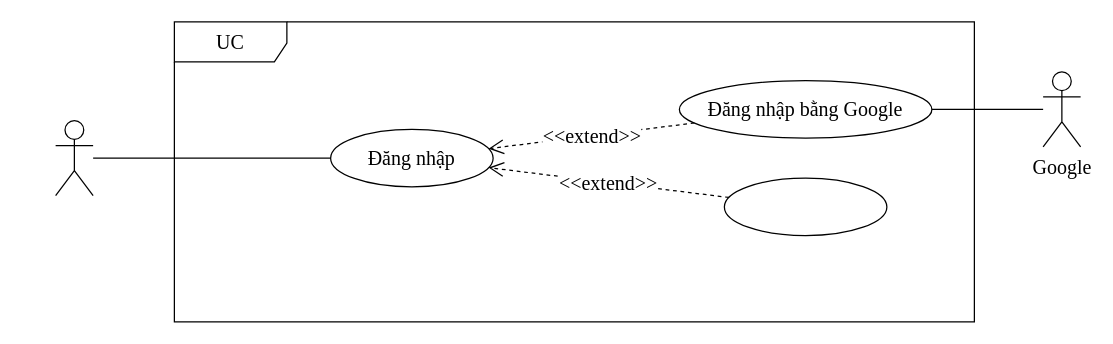
Some shapes in this 1113 by 344 pixel diagram are drawn without their labels. The centre of each missing label's shape, as x and y in pixels:
"Khách hàng, Quản trị viên" goes at point 73,157.
"Đăng xuất" goes at point 805,206.
